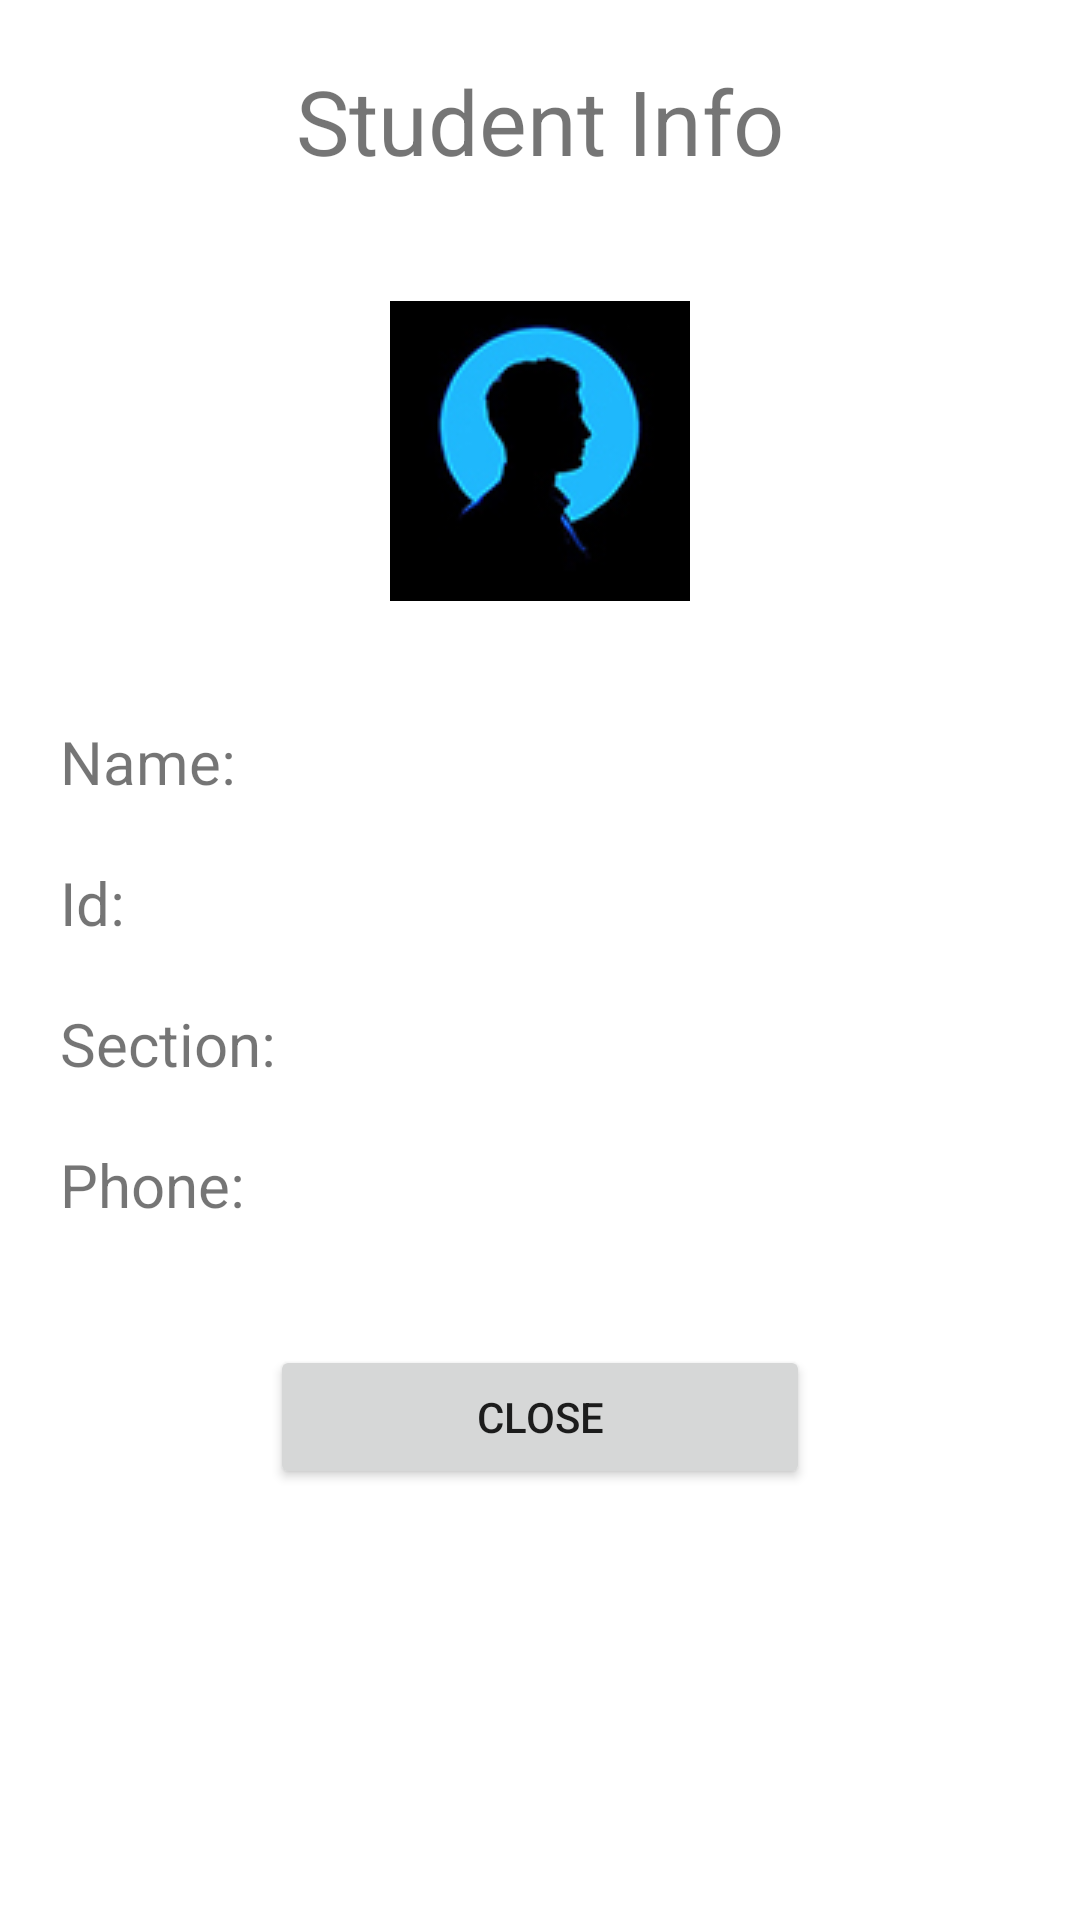

Icons on this 1080 × 1920 Android screen, each with its box as bbox(x1, y1, x2, y2):
ppic: bbox(390, 301, 690, 601)
